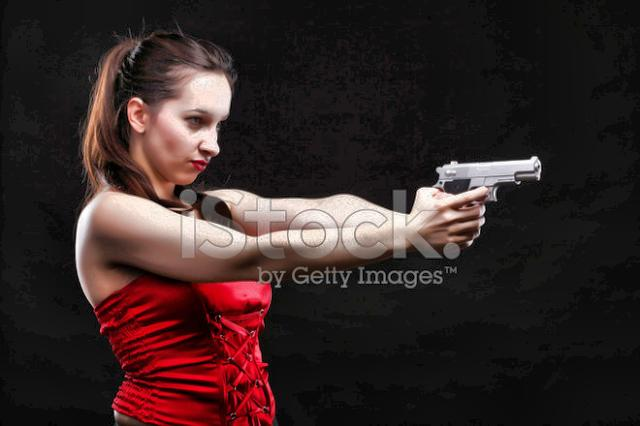pistol: (433, 152, 541, 213)
